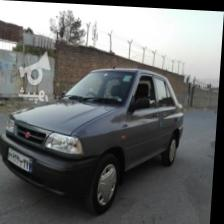plate: (8, 146, 36, 173)
